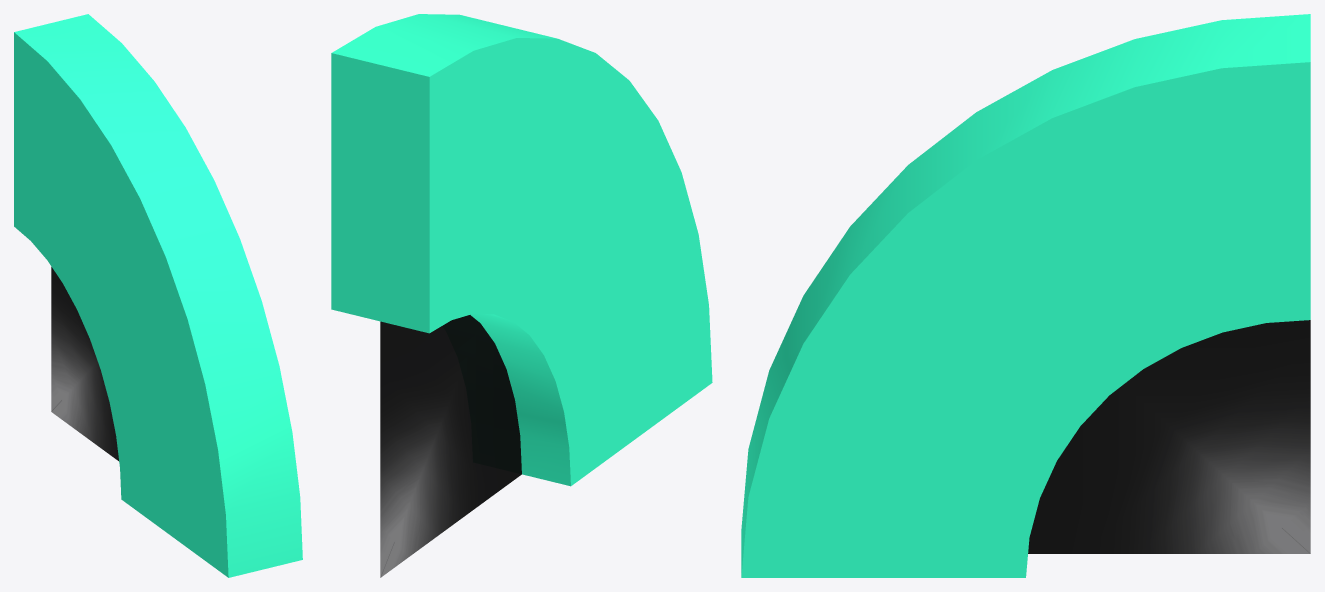
File: SM_TextBox_Border_Corner.glb
3 views of the same model, side by side, from view 1: azimuth 30°, elevation 25°; view 2: azimuth 150°, elevation 25°; view 3: azimuth 270°, elevation 25° (orthographic). The views are drawn at different scales.
Visible parts, largest first — view 1: SM_TextBox_Border_Corner; view 2: SM_TextBox_Border_Corner; view 3: SM_TextBox_Border_Corner.
Boxes of the visible parts, bbox=[...] form: SM_TextBox_Border_Corner: bbox=[14, 14, 302, 577]; SM_TextBox_Border_Corner: bbox=[331, 14, 712, 577]; SM_TextBox_Border_Corner: bbox=[741, 14, 1310, 577].
Bounding box in the file's own units: 0.02 × 0.1 × 0.1.
2 materials, 1 textured.
